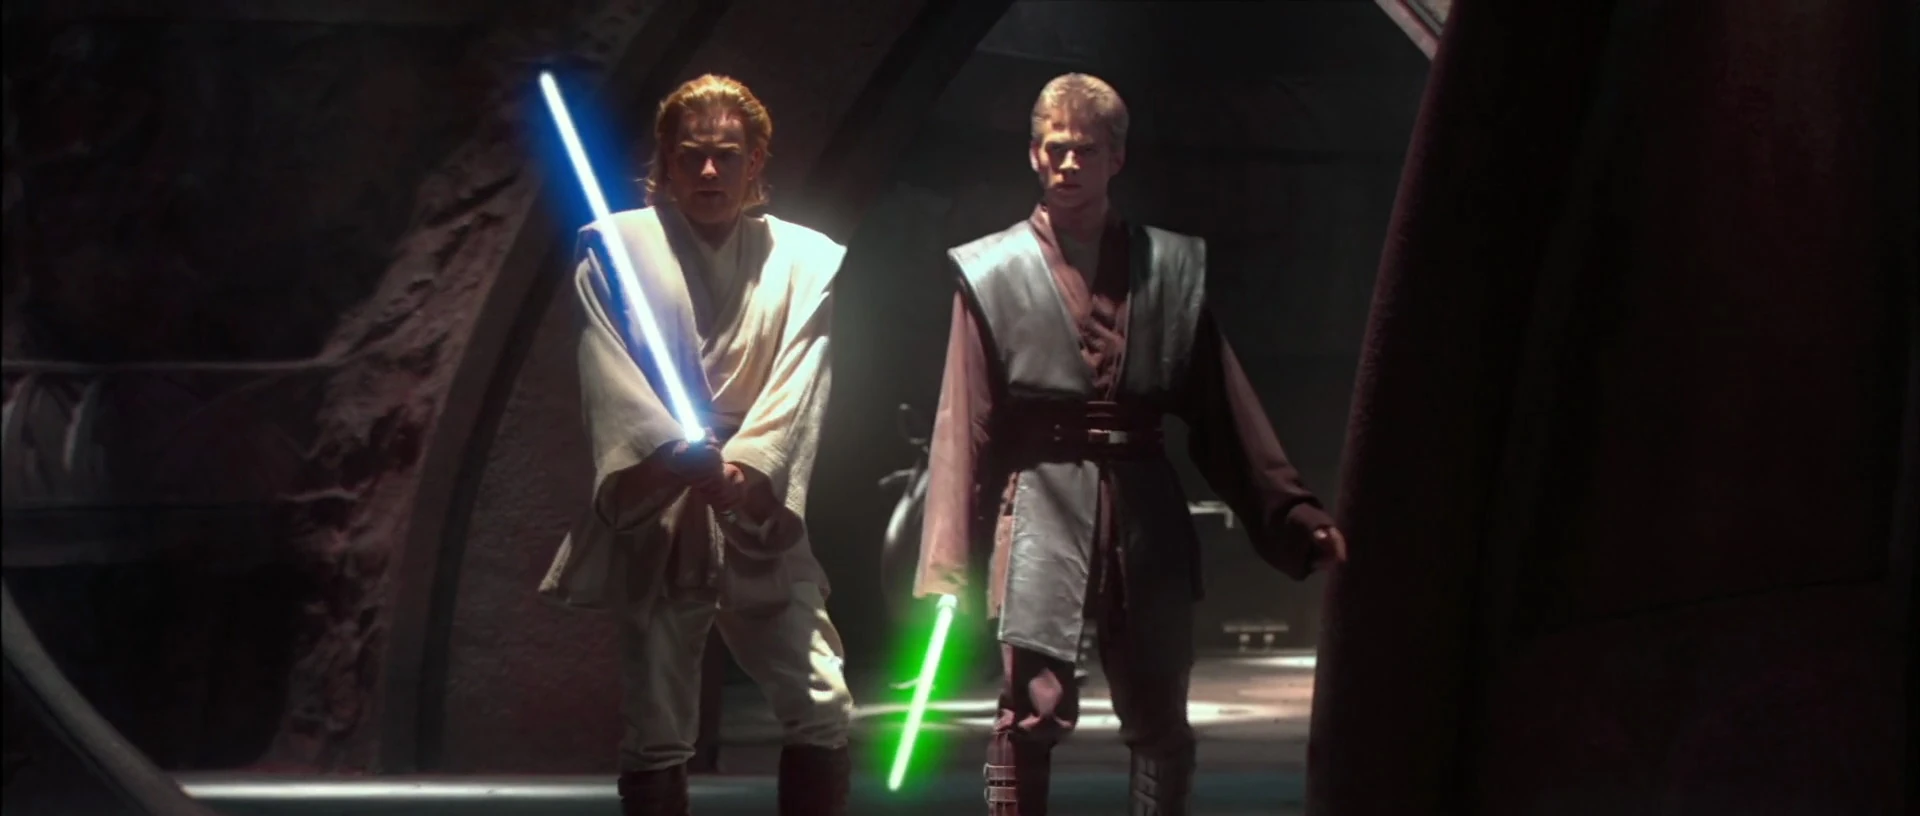Dalek: (522, 59, 751, 532), (871, 565, 976, 801)
